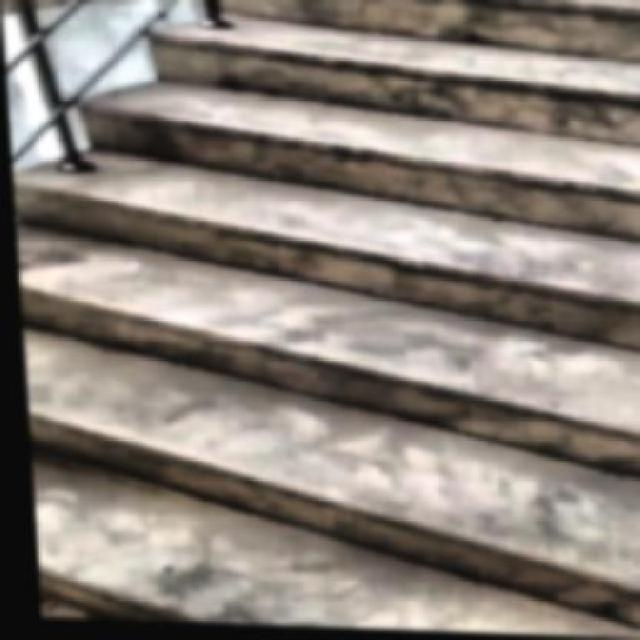stair: (2, 0, 640, 638)
